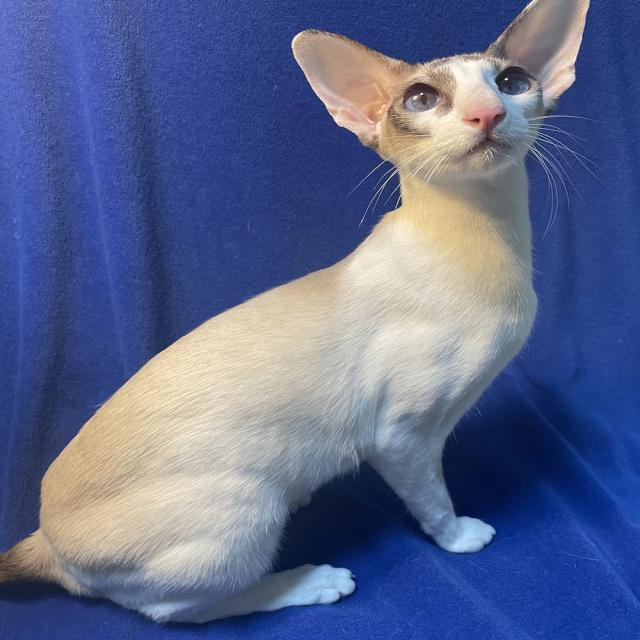Oriental: (0, 0, 599, 628)
